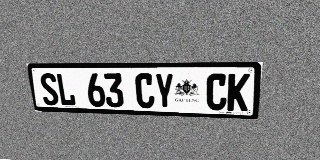3: (103, 73, 124, 108)
6: (85, 73, 106, 107)
C: (206, 73, 228, 111), (135, 73, 155, 108)
K: (227, 73, 250, 111)
L: (55, 73, 76, 106)
S: (39, 73, 60, 106)
Y: (154, 73, 174, 109)
